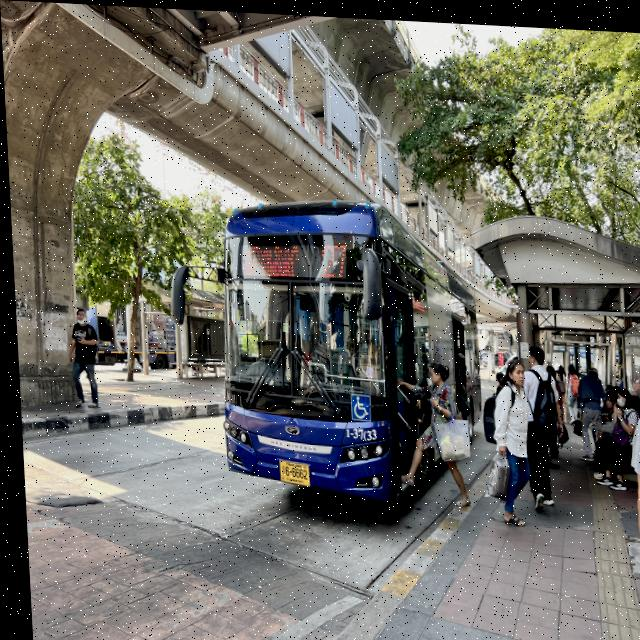Bus Line Number: (313, 236, 349, 279)
Bus Side Number: (340, 420, 374, 440)
Destination Sign: (232, 234, 309, 280)
TSB-Bus: (217, 199, 470, 503)
